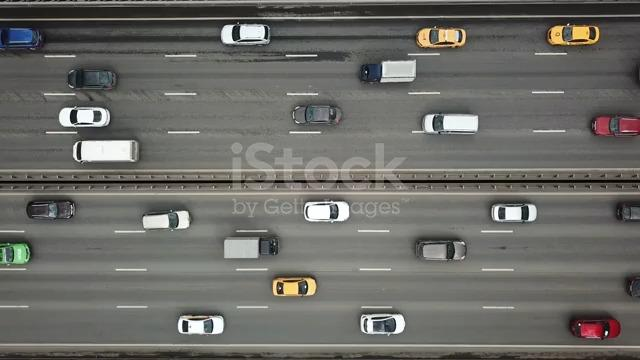Cars: (422, 113, 479, 135), (547, 24, 600, 47), (221, 23, 271, 46), (59, 106, 111, 128), (591, 114, 640, 137), (416, 27, 467, 49), (570, 318, 621, 340), (1, 27, 45, 52), (68, 69, 117, 91), (292, 105, 343, 126), (360, 313, 406, 336), (178, 314, 225, 336), (142, 210, 191, 231), (27, 200, 76, 221), (304, 201, 350, 223), (491, 203, 538, 223), (272, 277, 317, 297), (1, 242, 32, 266), (616, 202, 640, 222)
